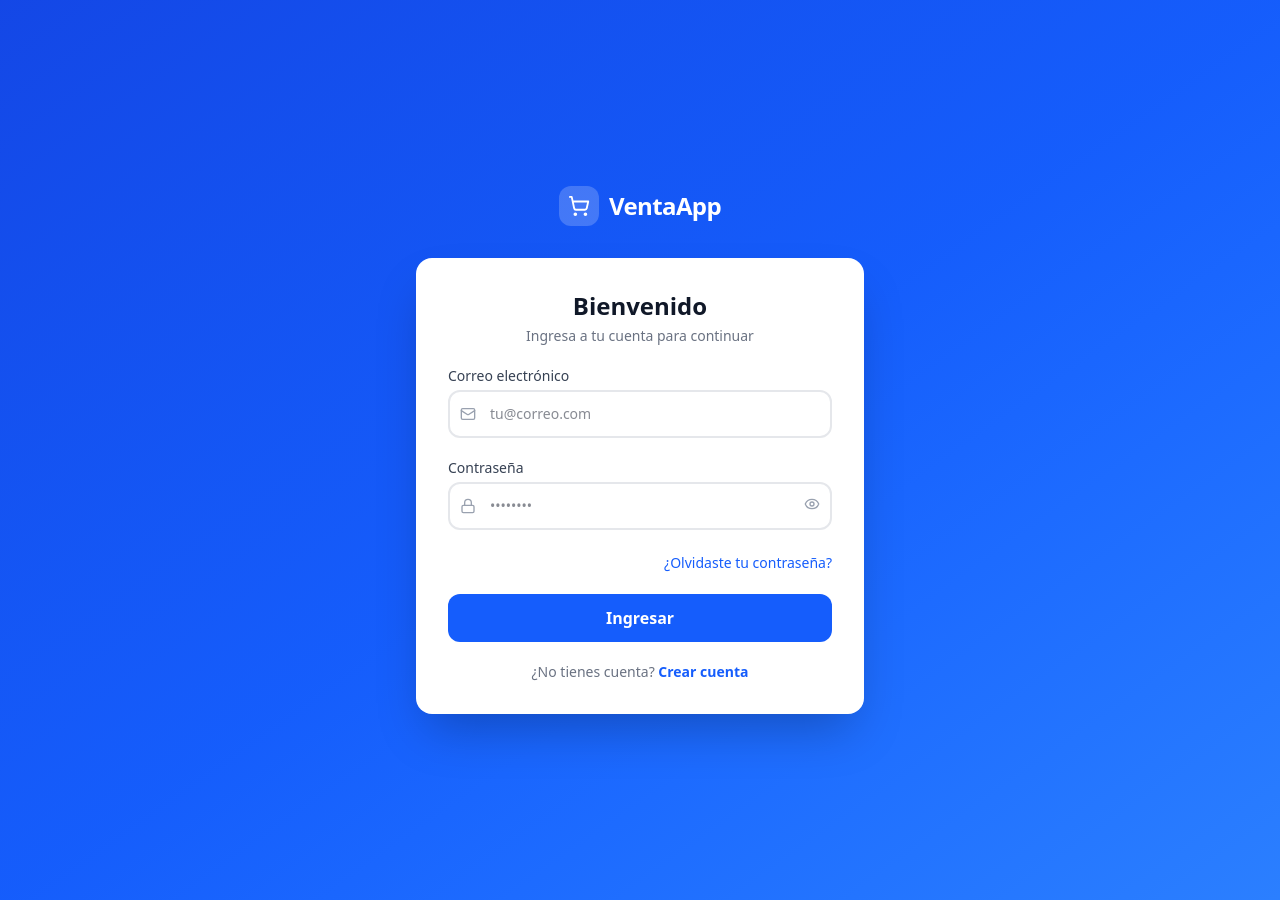
Test: LoginView › shows error when password is empty
In the field with placeholder "tu@correo.com": coordinates (640, 414) [448,390,832,438], type "test@test.com"
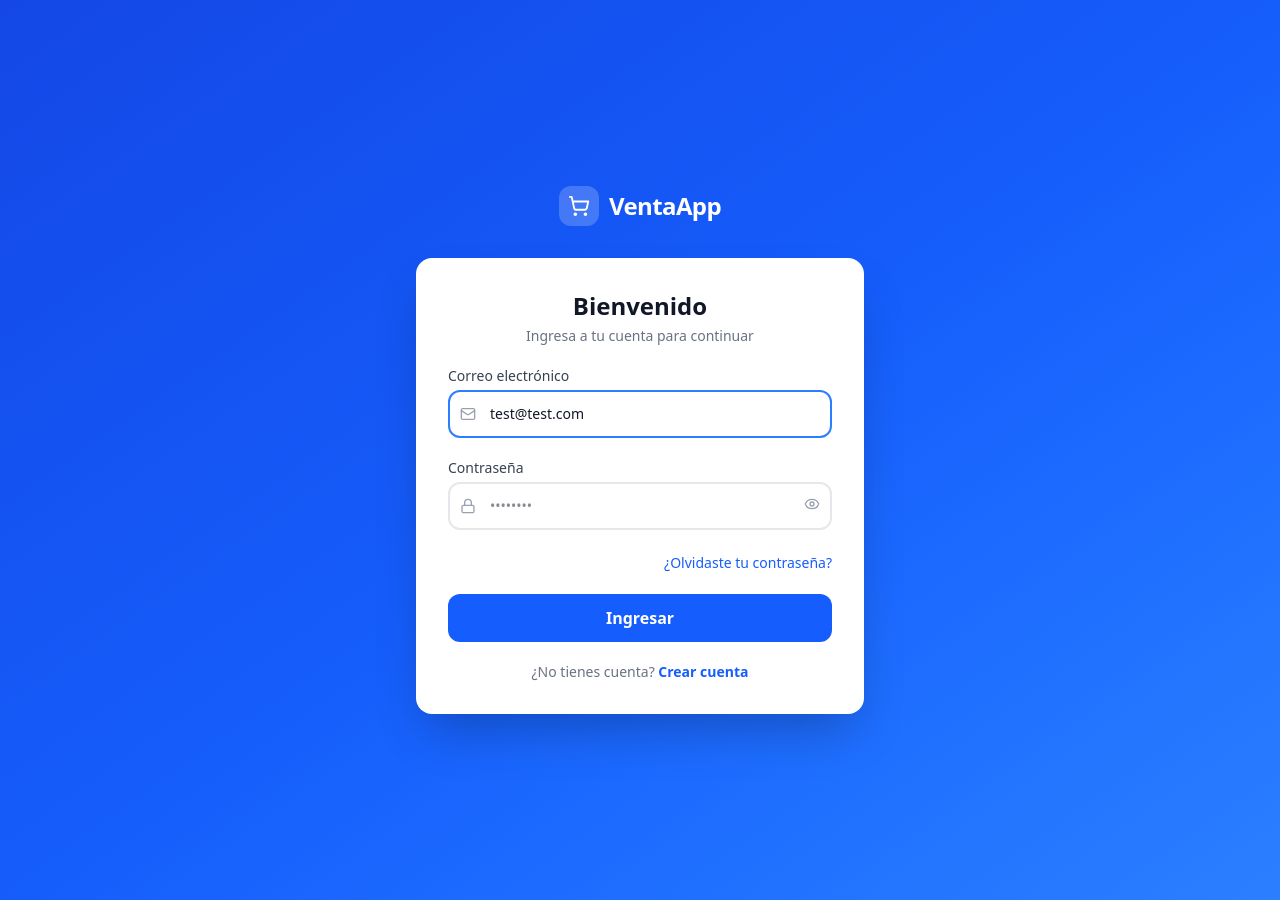
Click the button "Ingresar": coordinates (640, 618) [448,594,832,642]
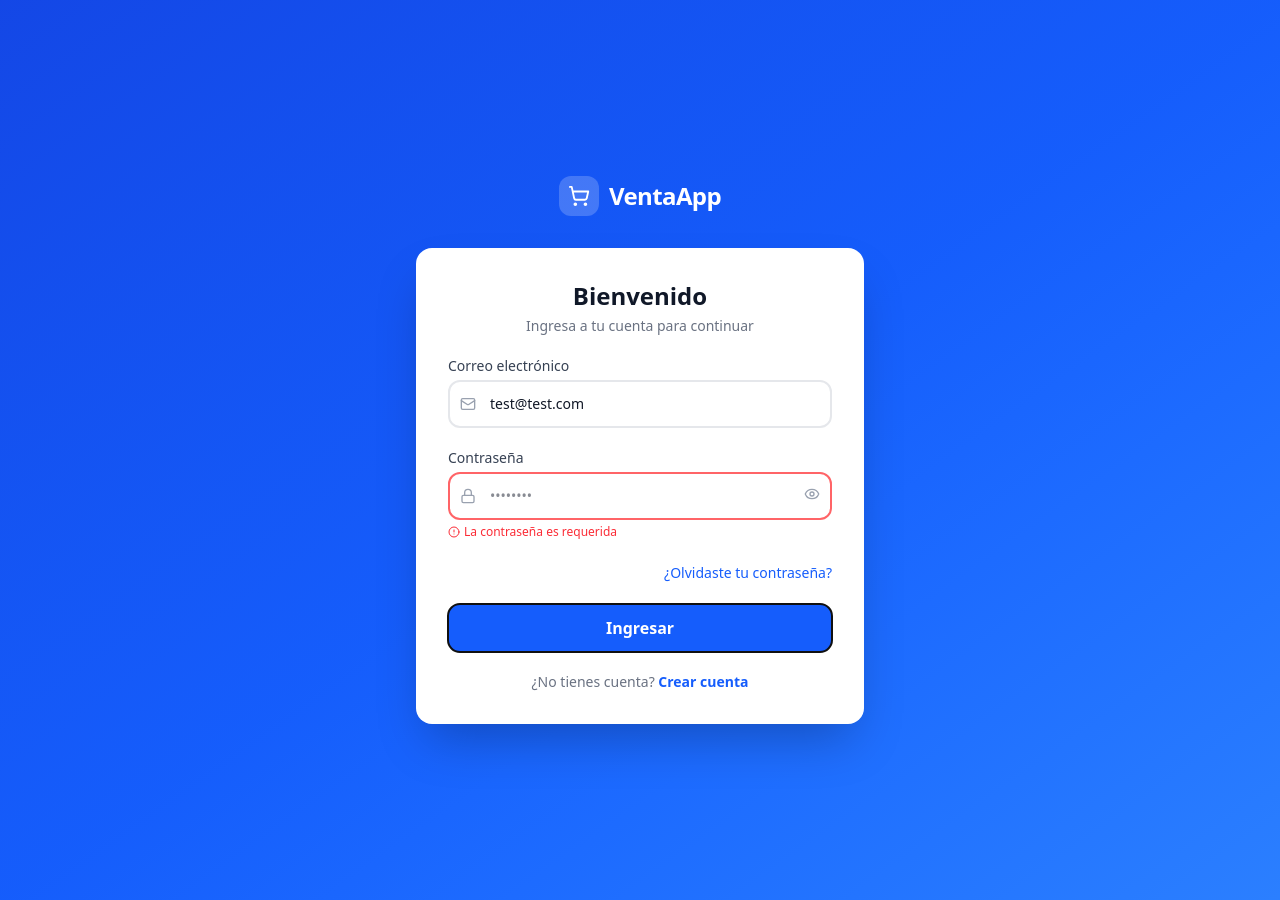
Check: the text "La contraseña es requerida" is shown, box [448,523,617,540]
